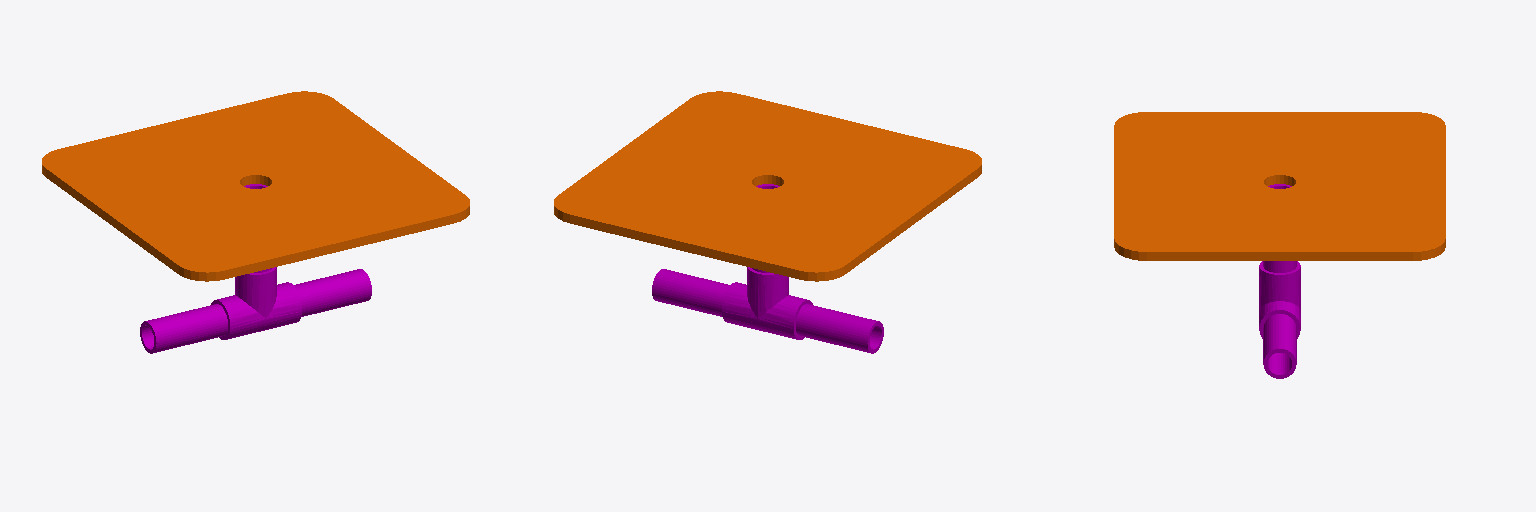
File: set_course_cover.obj
3 renders of one model, left to right at view 1: azimuth 30°, elevation 25°; view 2: azimuth 150°, elevation 25°; view 3: azimuth 270°, elevation 25°, orthographic.
Parts seen in each view (by area): view 1: mesh 2 SetCourse_7inch_Cover-1, mesh 1 BaseTube-2; view 2: mesh 2 SetCourse_7inch_Cover-1, mesh 1 BaseTube-2; view 3: mesh 2 SetCourse_7inch_Cover-1, mesh 1 BaseTube-2.
Part boxes in pixels (x1,y1,x2,y2): mesh 2 SetCourse_7inch_Cover-1: (42,91,469,281); mesh 1 BaseTube-2: (140,184,371,353); mesh 2 SetCourse_7inch_Cover-1: (554,91,981,281); mesh 1 BaseTube-2: (652,184,883,353); mesh 2 SetCourse_7inch_Cover-1: (1114,112,1445,260); mesh 1 BaseTube-2: (1259,184,1300,378).
Bounding box in the file's own units: 0.254 × 0.1251 × 0.254.